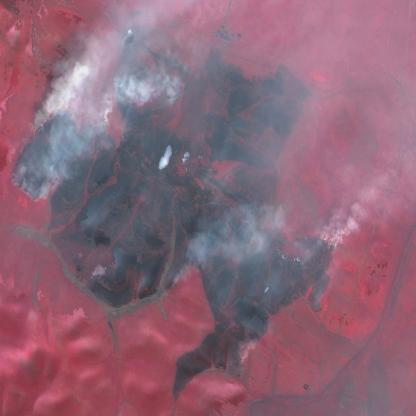fire: (9, 108, 113, 206), (289, 223, 339, 321), (164, 258, 193, 303), (230, 347, 255, 387)
